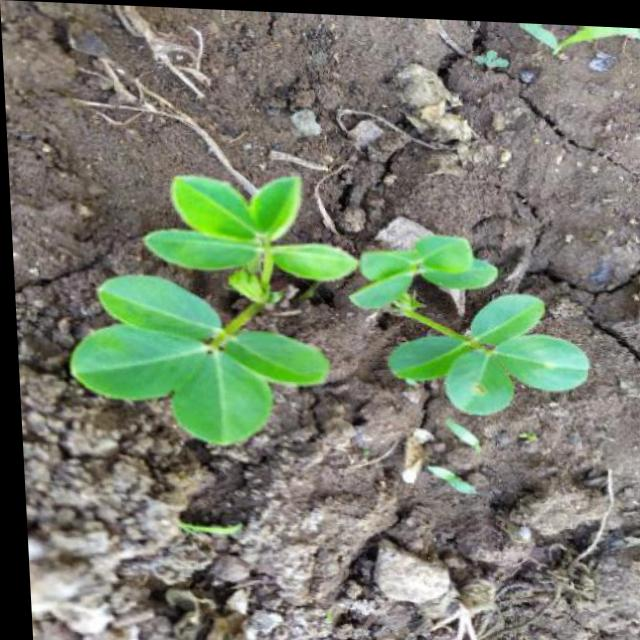weed: (52, 151, 599, 489)
